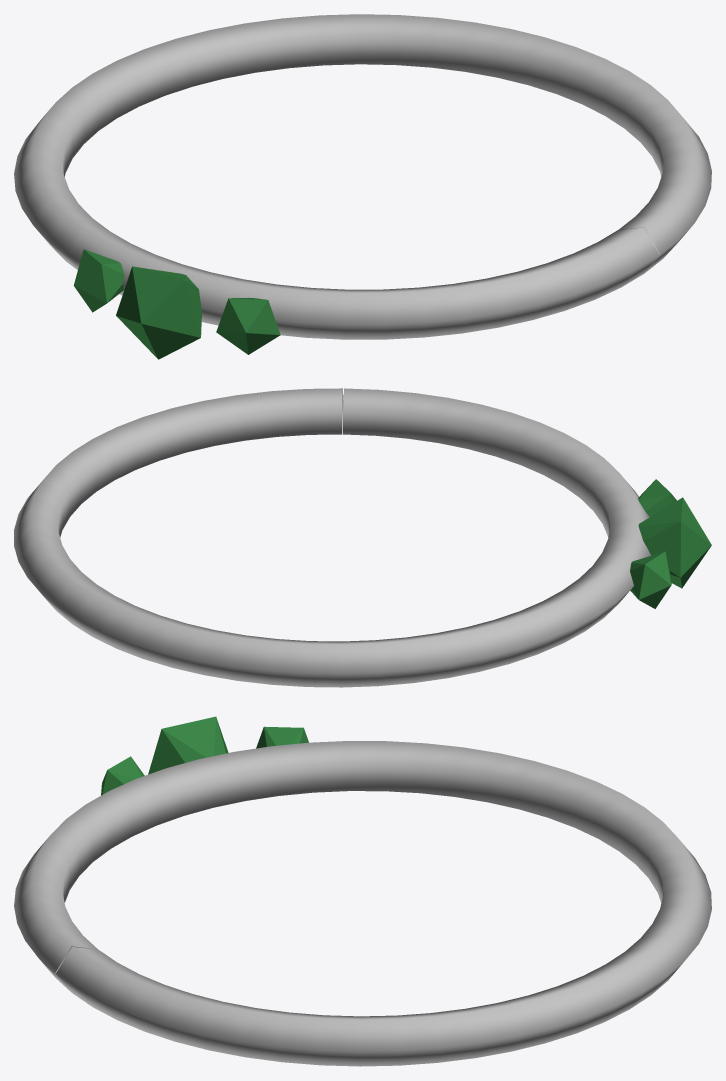
File: SilverRing.fbx
3 views of the same model, one above another, from view 1: azimuth 30°, elevation 25°; view 2: azimuth 150°, elevation 25°; view 3: azimuth 270°, elevation 25° (orthographic). The views are drawn at different scales.
Visible parts, largest first — view 1: Ring.001, Ring.2; view 2: Ring.001, Ring.2; view 3: Ring.001, Ring.2.
Part boxes in pixels (x1,y1,x2,y2): Ring.001: (14,80,659,359); Ring.2: (82,14,711,273); Ring.001: (324,388,711,687); Ring.2: (14,388,343,687); Ring.001: (14,716,653,992); Ring.2: (56,814,711,1066).
Size of the model in its own units: 2.03 by 0.2663 by 1.95.
